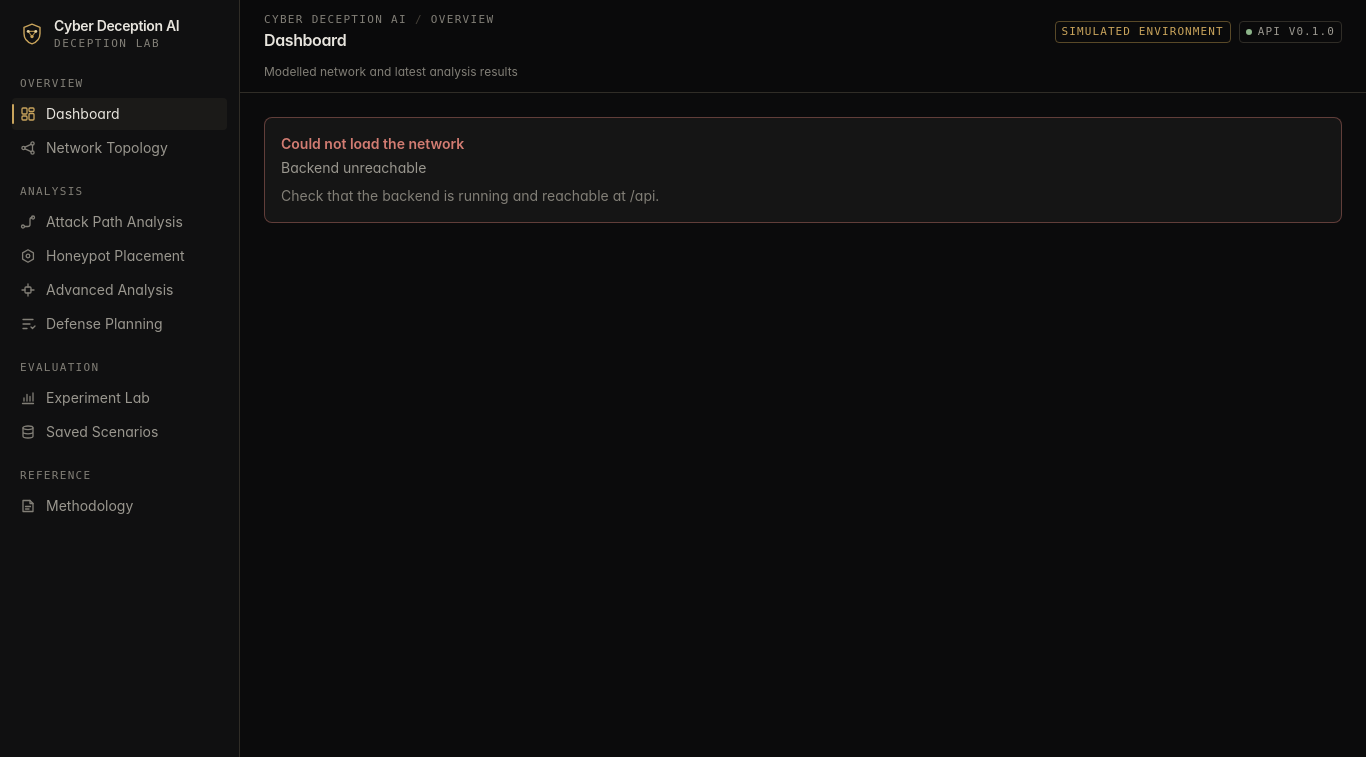
App navigation › shows the shell error state when the network cannot be loaded
The width and height of the screenshot is (1366, 757).
Check: the text "Could not load the network" is shown, box x1=281 y1=135 x2=464 y2=152
Check: the text "Backend unreachable" is shown, box x1=281 y1=159 x2=426 y2=176
Click the button "Methodology".
click(120, 506)  # box x1=12 y1=490 x2=227 y2=522
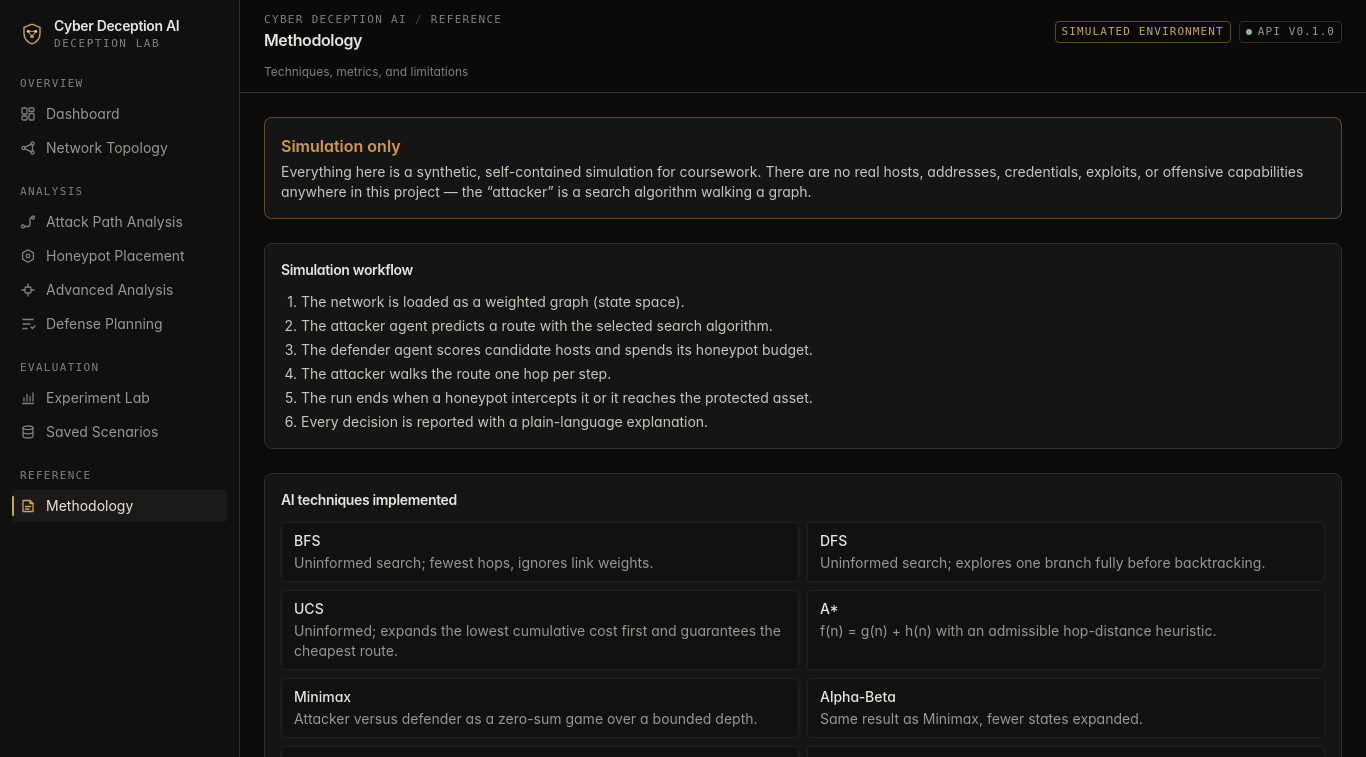
Check: the heading "Simulation only" is shown, box x1=281 y1=136 x2=401 y2=156
